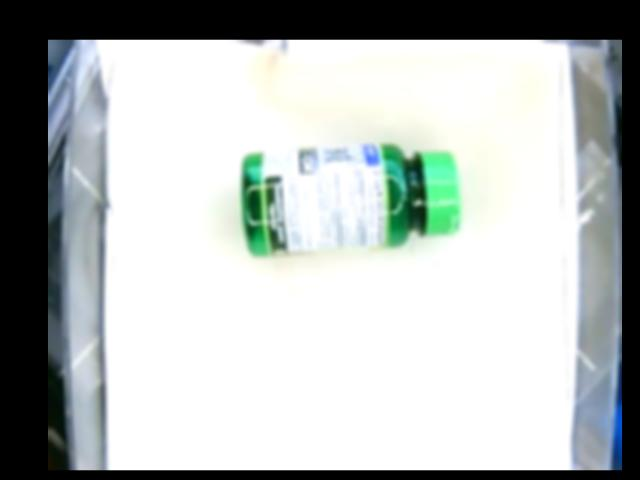Bottle: (238, 142, 456, 258)
